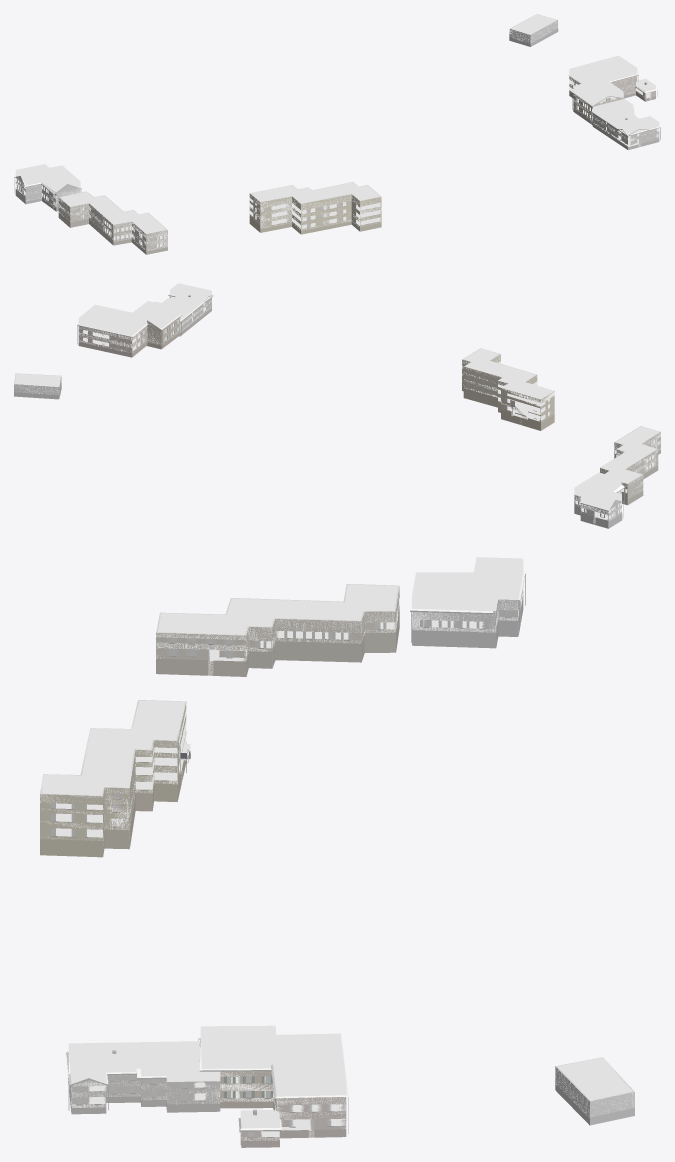
3 renders of one model, top to bottom at view 1: azimuth 30°, elevation 25°; view 2: azimuth 150°, elevation 25°; view 3: azimuth 270°, elevation 25°, orthographic. The views are drawn at different scales.
Parts seen in each view (by area): view 1: col, bld; view 2: col, bld; view 3: col, bld.
Part boxes in pixels (left/top/right/bottom): col: left=15, top=14, right=659, bottom=251; bld: left=14, top=14, right=660, bottom=254; col: left=14, top=283, right=660, bottom=522; bld: left=14, top=293, right=660, bottom=528; col: left=40, top=557, right=634, bottom=1140; bld: left=40, top=572, right=634, bottom=1147.
Size of the model in its own units: 224 by 14.65 by 101.
